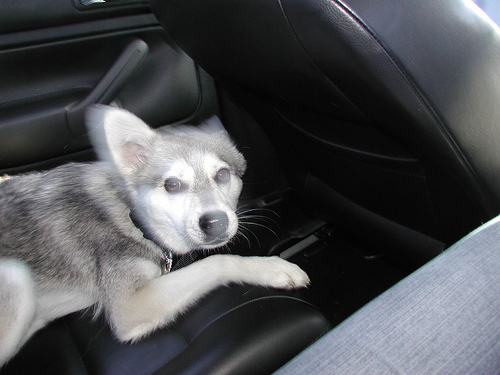dog: (1, 101, 312, 369)
